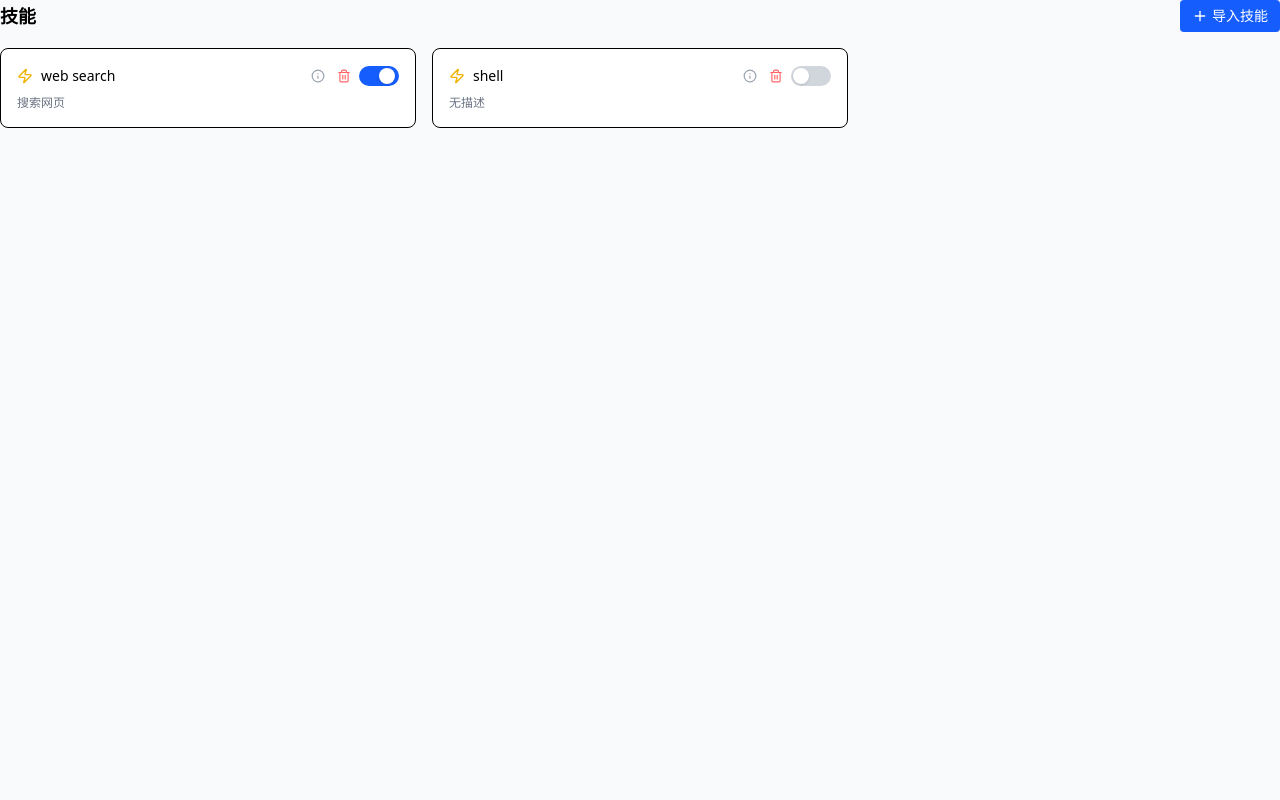
Test: Skills 页 › 点详情按钮打开抽屉并请求详情与依赖
Click the button named "查看技能 shell 详情" at (750, 76), box [739,65,761,87]
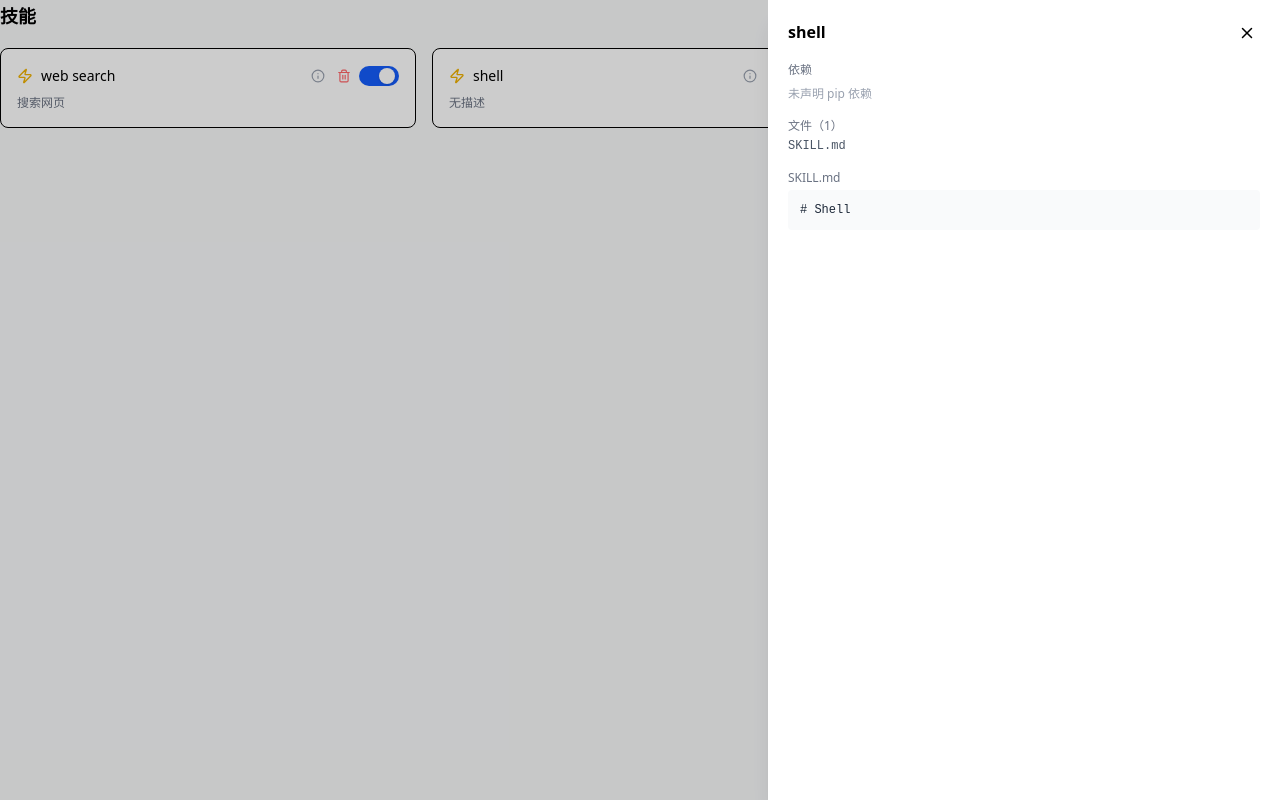
Check: the text "# Shell" is shown, box [788,190,1260,230]
